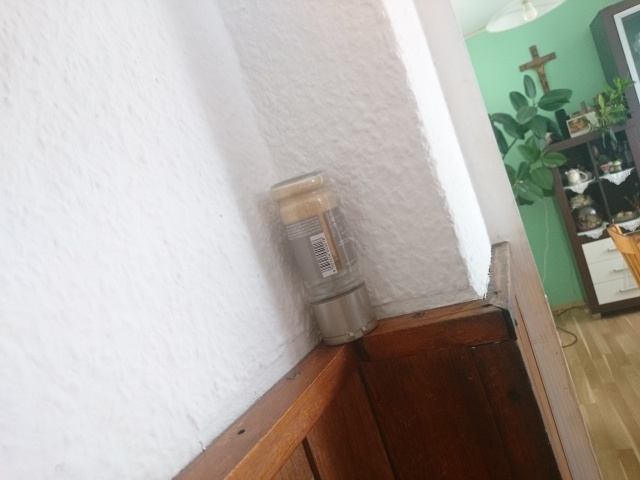Kotanyi Garlic Granules 70g: (266, 168, 381, 348)
